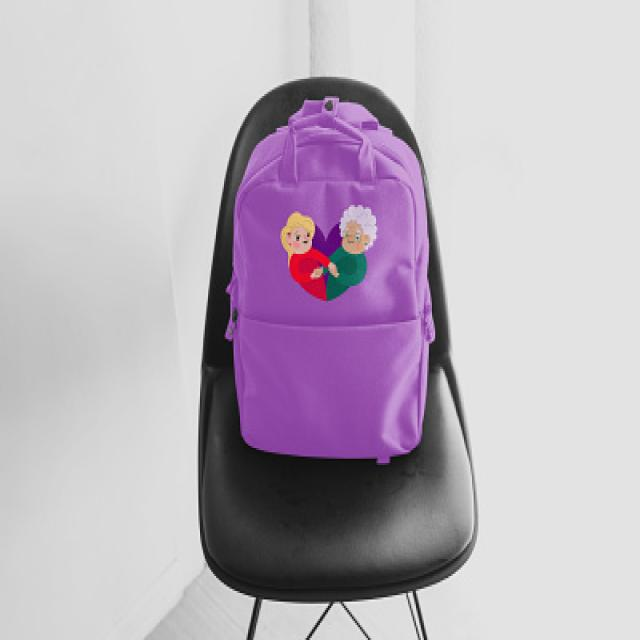backpack: (225, 95, 436, 464)
